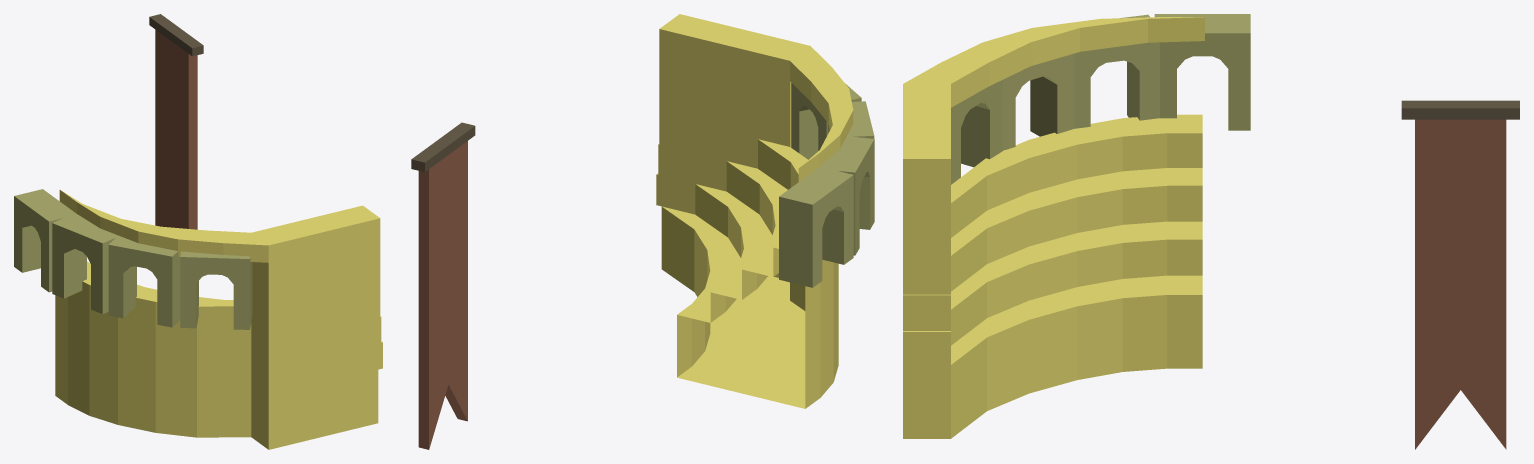
The model's file is Background.glb.
3 views of the same model, side by side, from view 1: azimuth 30°, elevation 25°; view 2: azimuth 150°, elevation 25°; view 3: azimuth 270°, elevation 25° (orthographic). The views are drawn at different scales.
Parts seen in each view (by area): view 1: Cube, Cube.002, Cube.003, Cube.001; view 2: Cube, Cube.003, Cube.001, Cube.002; view 3: Cube, Cube.003, Cube.002, Cube.001.
Boxes of the visible parts, x1,y1,x2,y2 form: Cube: [55, 190, 382, 449]; Cube.002: [52, 213, 252, 329]; Cube.003: [149, 14, 203, 229]; Cube.001: [14, 189, 77, 292]; Cube: [656, 14, 853, 408]; Cube.003: [411, 122, 475, 449]; Cube.001: [779, 166, 853, 287]; Cube.002: [791, 83, 874, 255]; Cube: [903, 17, 1204, 438]; Cube.003: [1401, 100, 1519, 449]; Cube.002: [951, 14, 1159, 184]; Cube.001: [1154, 14, 1250, 130].
Bounding box in the file's own units: 17.02 × 16.57 × 27.04.
